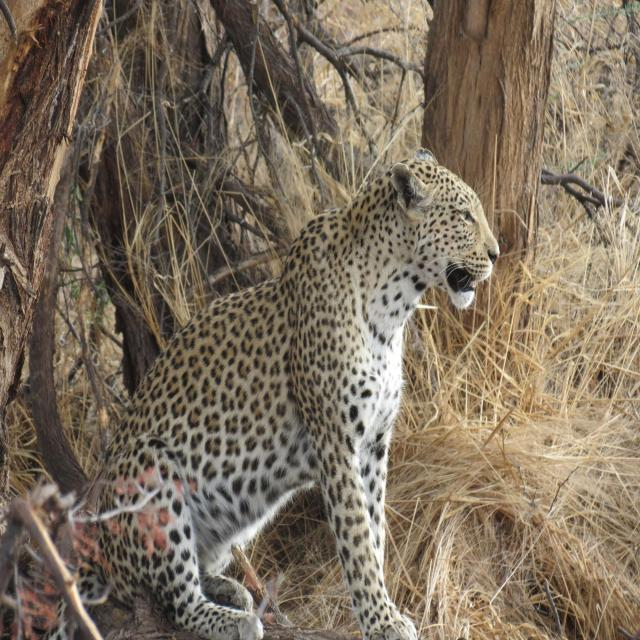Leopard: (84, 141, 515, 640)
